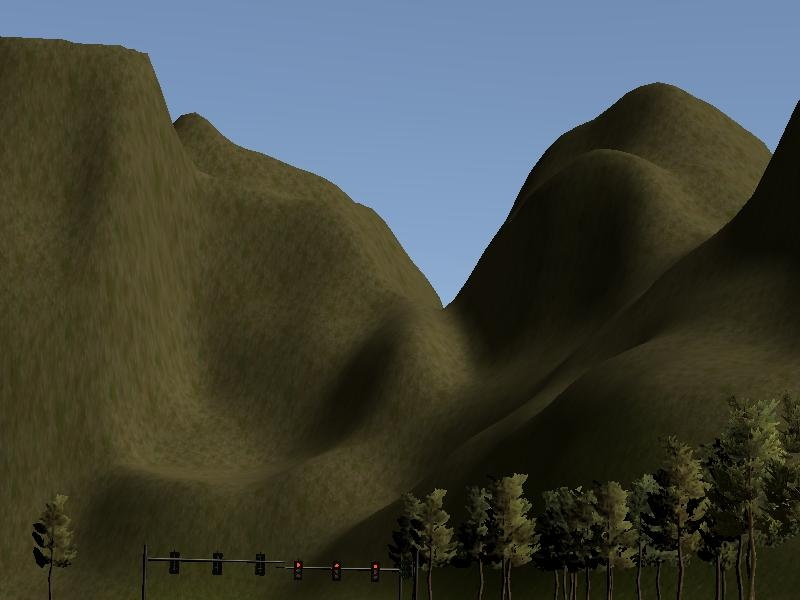red: (329, 557, 344, 583), (291, 560, 304, 583), (371, 560, 382, 586)
